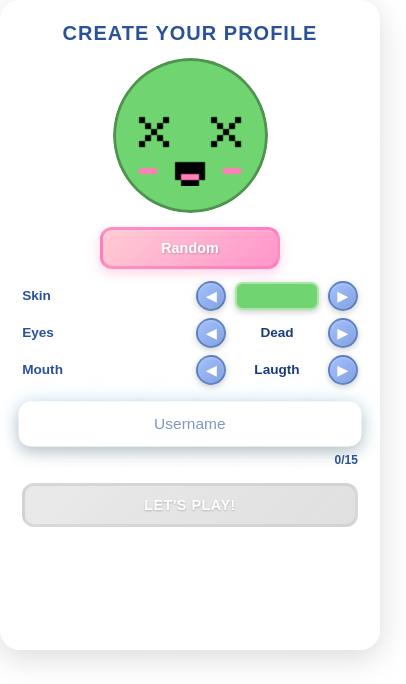
Test: ProfileMenu Component › Profile Submission › should show a fallback error when updateProfile fails without an error message
Step 1. Type "TestUser" into the field → (190, 424), box left=19, top=402, right=361, bottom=447
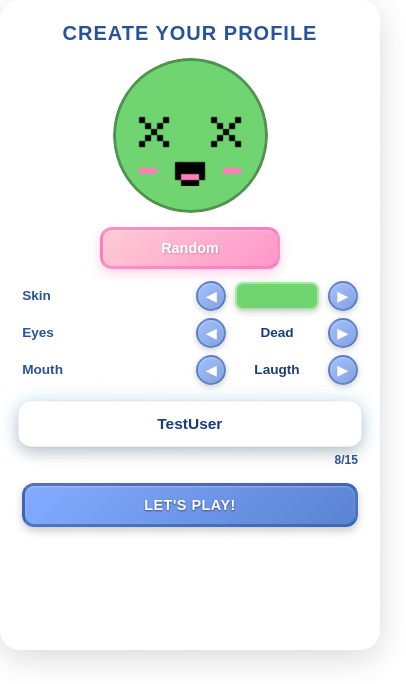
Step 2. Click the button "Let's Play!" → (190, 505), box left=22, top=483, right=358, bottom=527
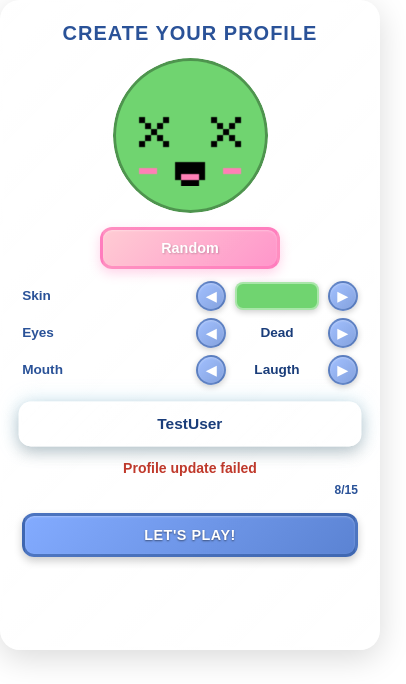
Expected: the text "Profile update failed" is shown, left=123, top=460, right=257, bottom=476
